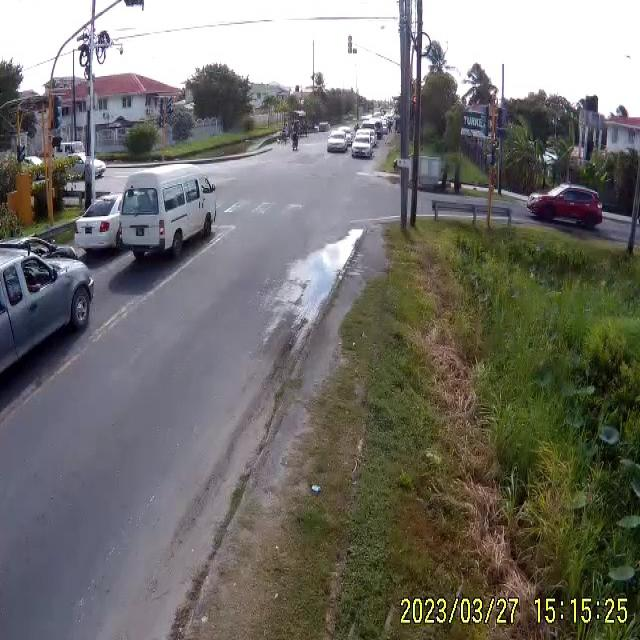car: (0, 238, 96, 447), (118, 168, 214, 260), (528, 185, 605, 228), (76, 194, 126, 254), (352, 135, 376, 161), (326, 132, 350, 156)
